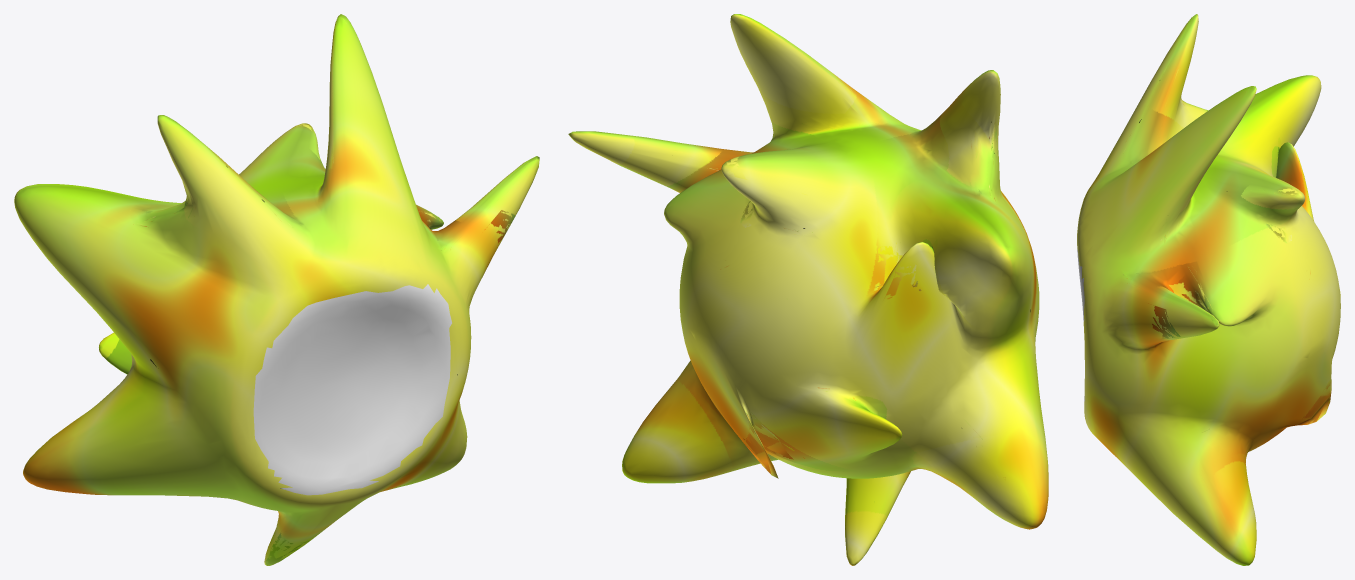
File: happy_memory.glb
3 views of the same model, side by side, from view 1: azimuth 30°, elevation 25°; view 2: azimuth 150°, elevation 25°; view 3: azimuth 270°, elevation 25° (orthographic). The views are drawn at different scales.
Parts seen in each view (by area): view 1: happymemc; view 2: happymemc; view 3: happymemc.
Boxes of the visible parts, x1=… form: happymemc: x1=14, y1=14, x2=539, y2=565; happymemc: x1=568, y1=14, x2=1048, y2=565; happymemc: x1=1077, y1=14, x2=1340, y2=565.
Bounding box in the file's own units: 0.3296 × 0.3362 × 0.1694.
2 materials, 2 textured.
